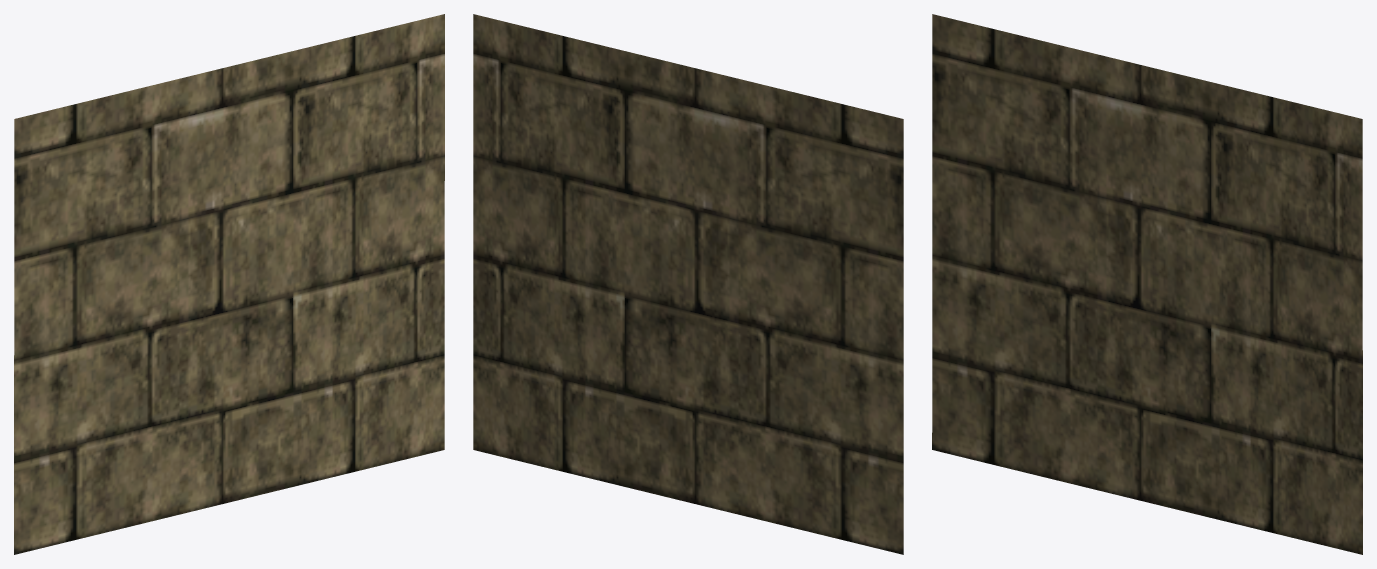
The model's file is OVERHILL_A_01_OBJECT203.fbx.
3 views of the same model, side by side, from view 1: azimuth 30°, elevation 25°; view 2: azimuth 150°, elevation 25°; view 3: azimuth 330°, elevation 25° (orthographic).
Visible parts, largest first — view 1: OVERHILL_A_01_OBJECT203; view 2: OVERHILL_A_01_OBJECT203; view 3: OVERHILL_A_01_OBJECT203.
Boxes of the visible parts, x1,y1,x2,y2 form: OVERHILL_A_01_OBJECT203: (14,14,444,554); OVERHILL_A_01_OBJECT203: (473,14,903,554); OVERHILL_A_01_OBJECT203: (932,14,1362,554).
Bounding box in the file's own units: 36360 × 35168 × 3.27.
1 material, 1 textured.
